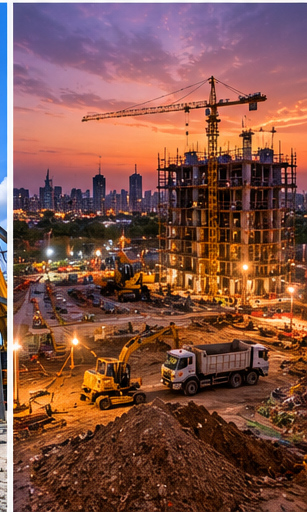crane: (69, 60, 277, 314)
excavator: (71, 323, 177, 424)
truck: (160, 335, 273, 397)
